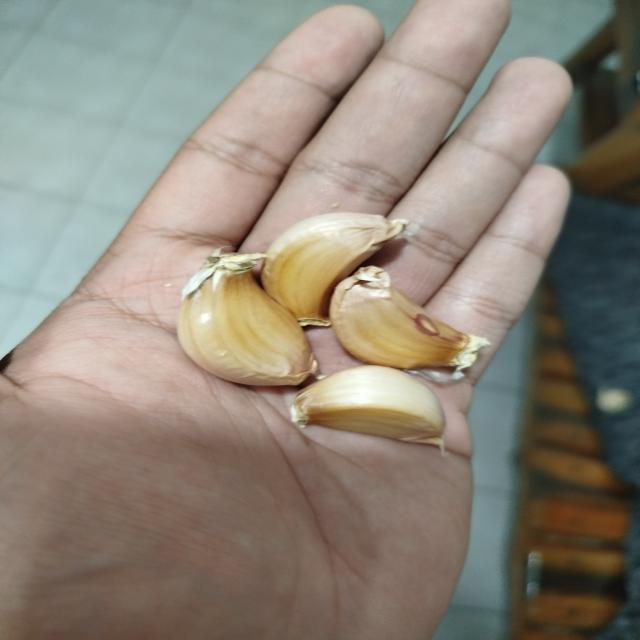garlic: (176, 245, 320, 387), (328, 264, 491, 382), (260, 211, 410, 328), (289, 364, 448, 456)
